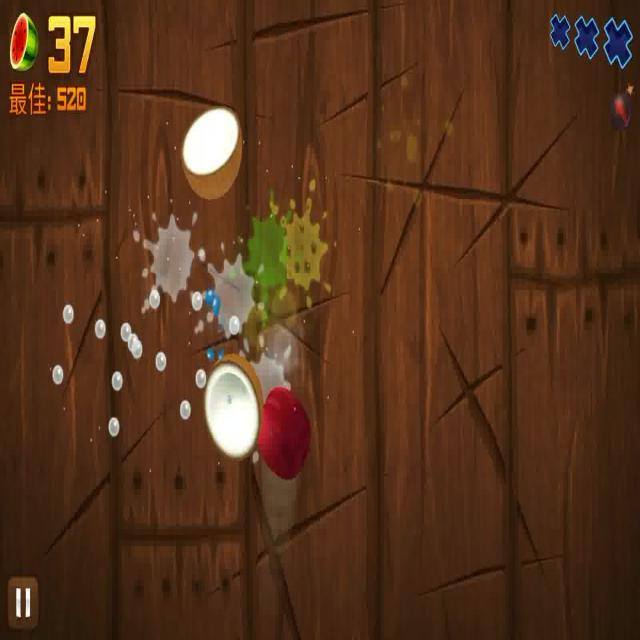fruit: (204, 356, 260, 464), (182, 106, 244, 203), (262, 386, 312, 484)
